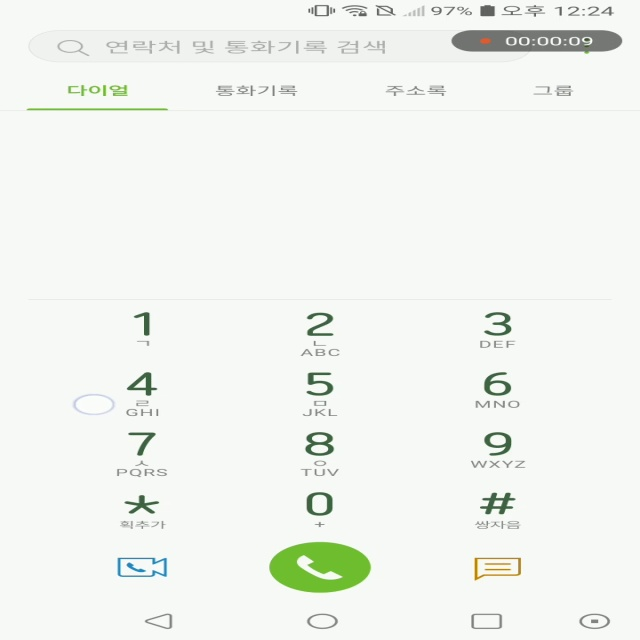Cursor: (72, 394, 117, 416)
